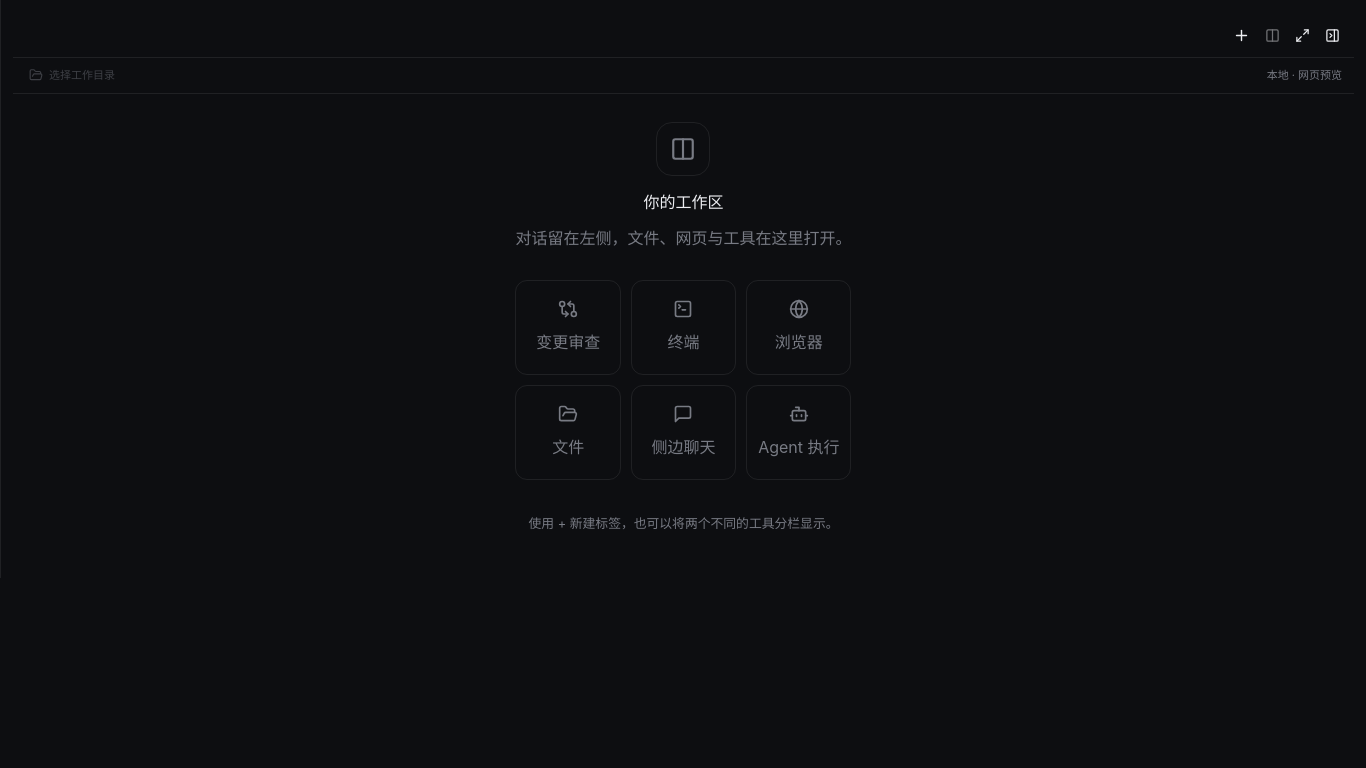
Test case: Agent right workspace › retains controlled-file previews as an explicit tool
Click the button named "新建工作区标签" at coordinates (1241, 36), box [1227,22,1255,50]
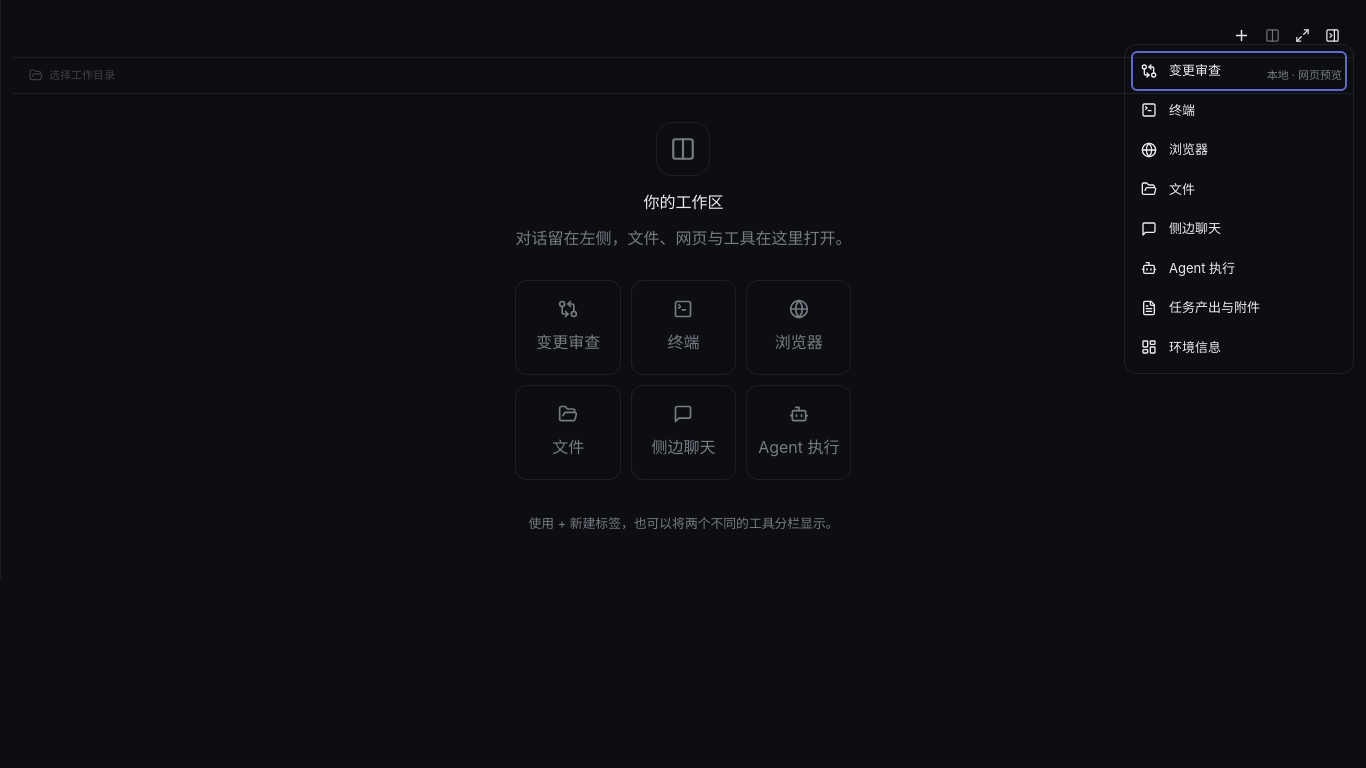
Click the menu item "任务产出与附件" at coordinates (1239, 308), box [1131,288,1347,328]
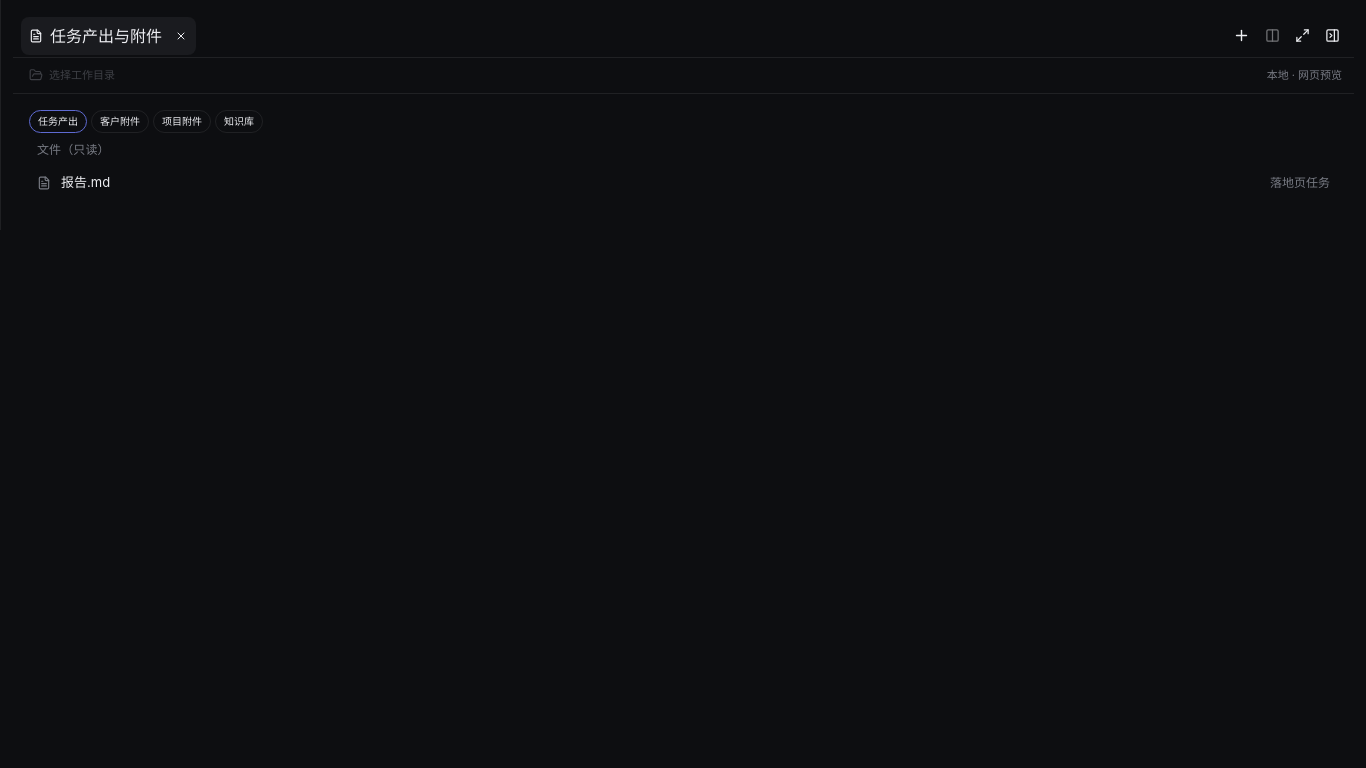
Click the button "报告.md 落地页任务" at coordinates (86, 182), box [29,166,1338,200]
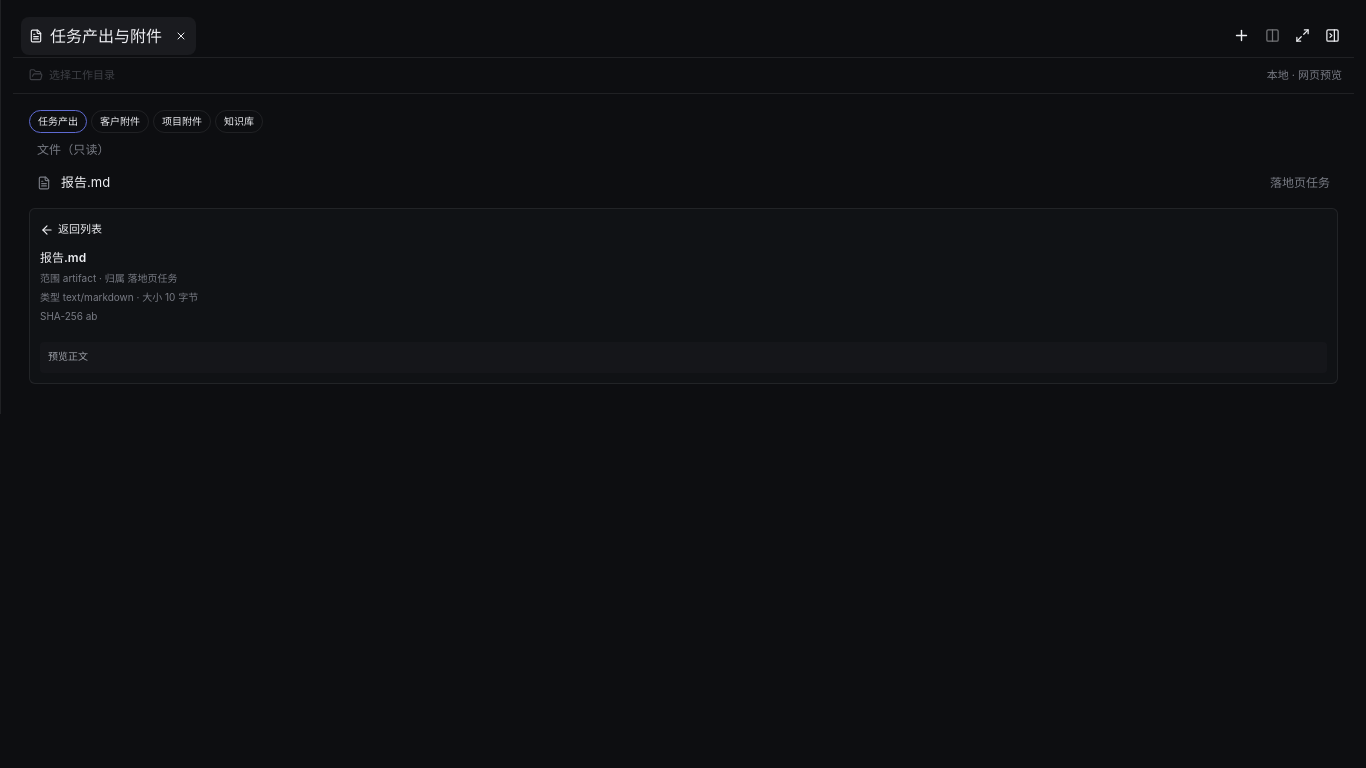
Check: the text "预览正文" is shown, box [40,342,1327,372]
